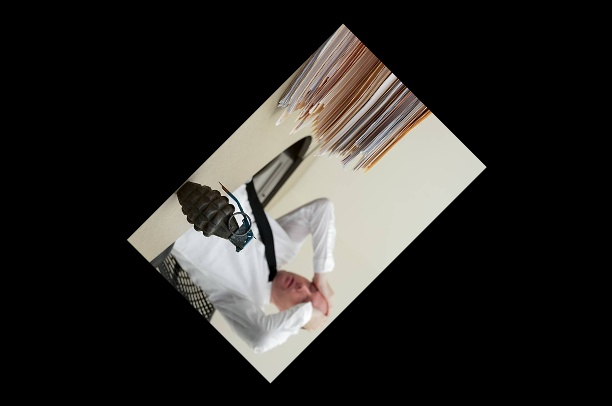e1: (177, 175, 257, 255)
